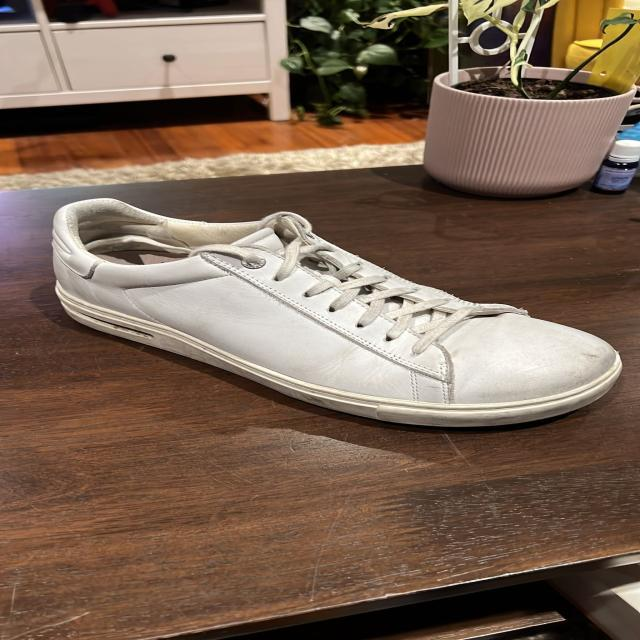shoes: (50, 197, 627, 431)
